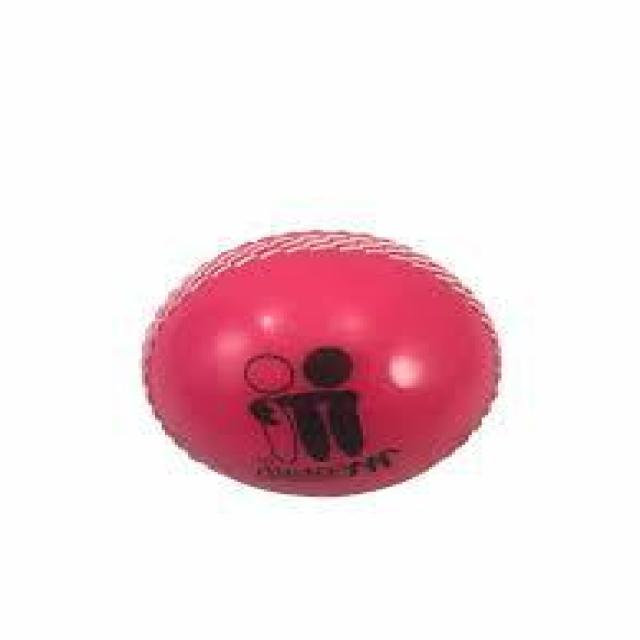ball: (135, 232, 505, 499)
